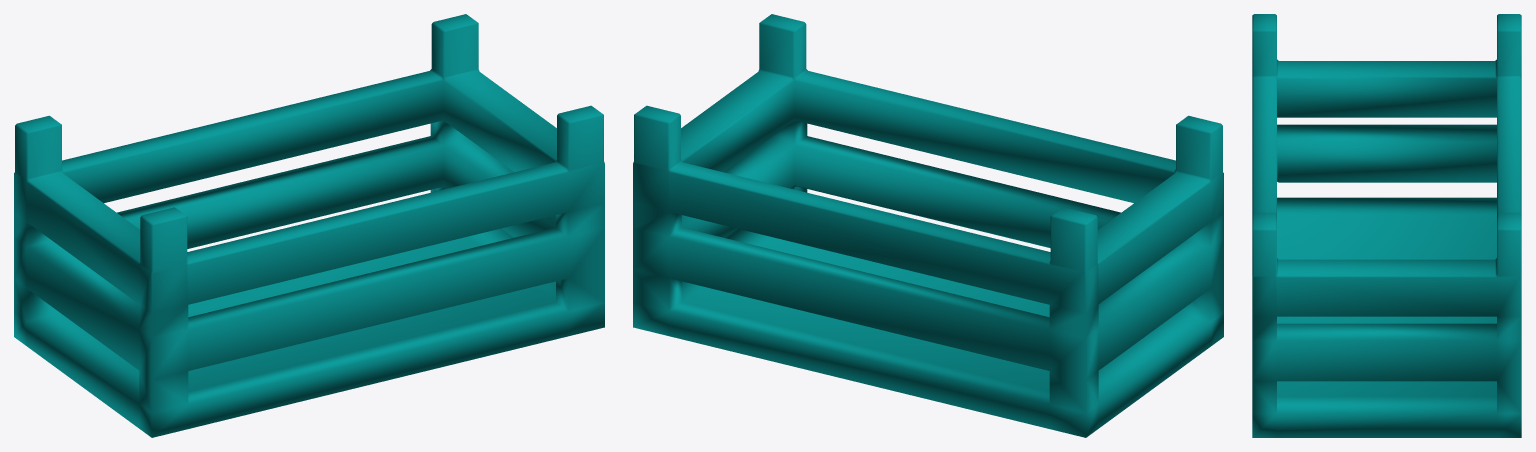
Rendered from koszyk.FBX.
3 views of the same model, side by side, from view 1: azimuth 30°, elevation 25°; view 2: azimuth 150°, elevation 25°; view 3: azimuth 270°, elevation 25° (orthographic). The views are drawn at different scales.
Parts seen in each view (by area): view 1: Box001; view 2: Box001; view 3: Box001.
Part boxes in pixels (<box>): Box001: <box>14,14,604,437</box>; Box001: <box>633,14,1223,437</box>; Box001: <box>1252,14,1521,437</box>.
Size of the model in its own units: 56.9 by 25.65 by 30.
